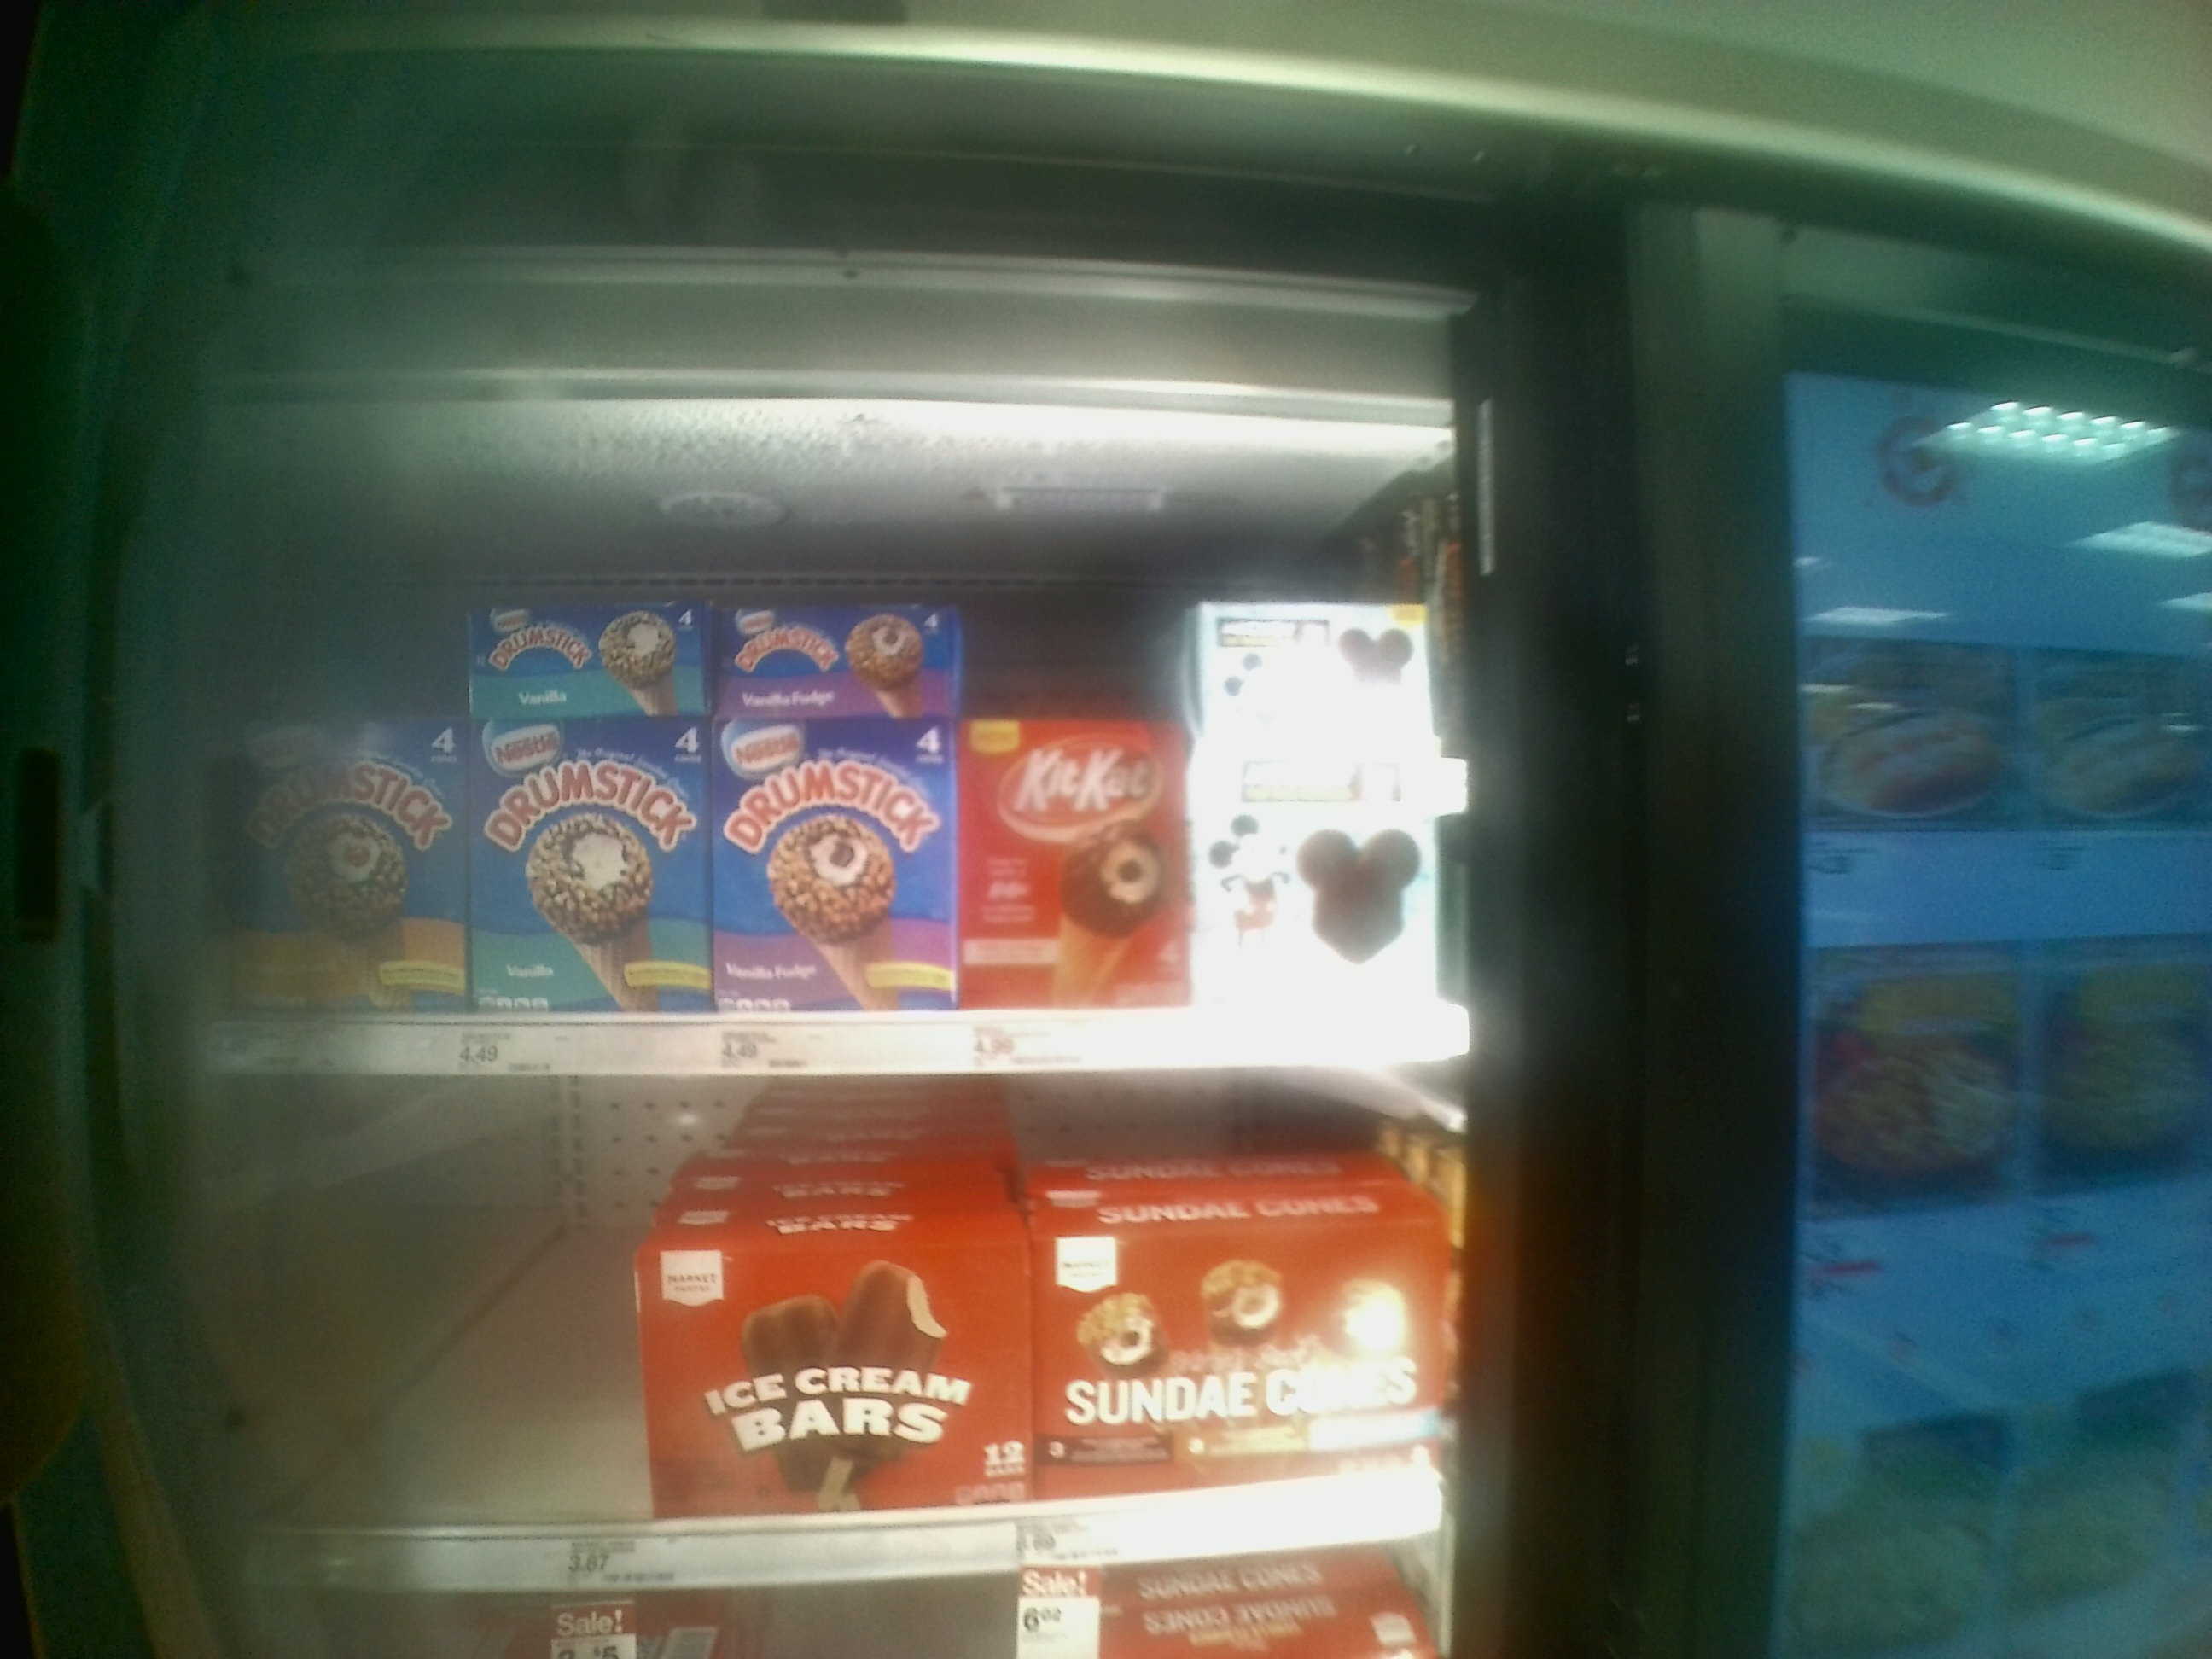frozen-food-shelf: (127, 397, 1501, 1073), (120, 1073, 1519, 1593)
